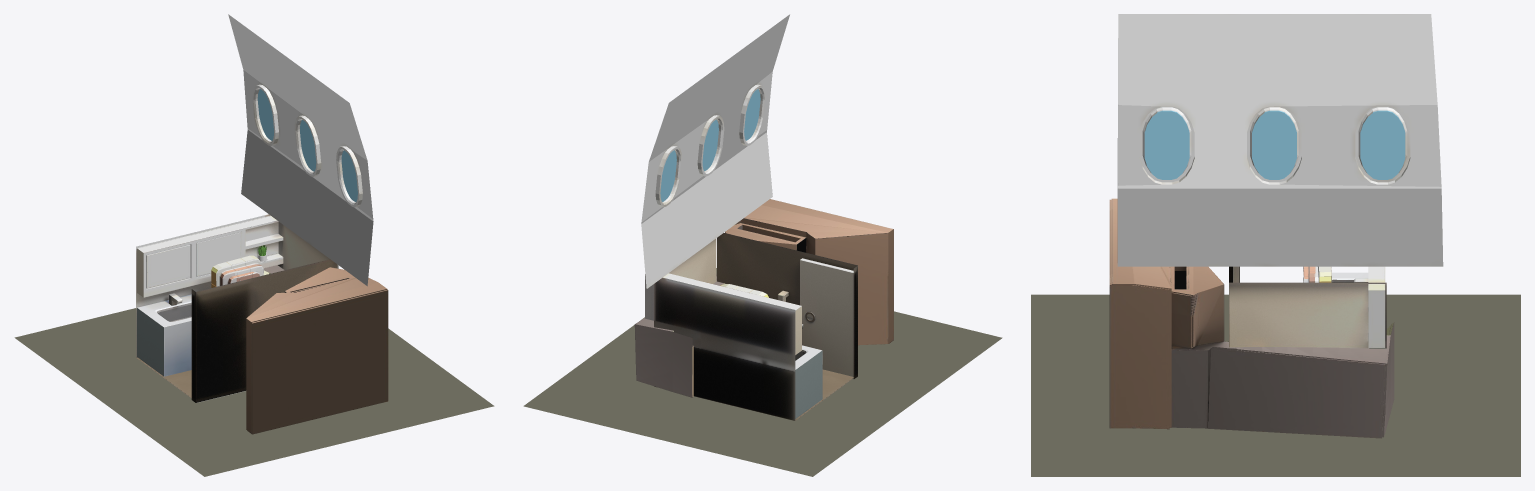
The model's file is equipment-introduction.glb.
3 views of the same model, side by side, from view 1: azimuth 30°, elevation 25°; view 2: azimuth 150°, elevation 25°; view 3: azimuth 270°, elevation 25° (orthographic). The views are drawn at different scales.
Parts seen in each view (by area): view 1: A350_Nose_plane, A350_Nose_wall, LAV_wall.005, FC_01A_wall, FC_01A_wall2, LAV_wall.004, window, Chair_FC_chair_back; view 2: A350_Nose_plane, LAV_wall.005, A350_Nose_wall, FC_01A_wall2, LAV_wall.004, window; view 3: A350_Nose_wall, A350_Nose_plane, FC_01A_wall, LAV_wall.005, window, FC_01A_wall2.
Boxes of the visible parts, bbox=[...] form: A350_Nose_plane: bbox=[14, 308, 494, 476]; A350_Nose_wall: bbox=[228, 14, 373, 286]; LAV_wall.005: bbox=[136, 214, 338, 402]; FC_01A_wall: bbox=[247, 273, 388, 434]; FC_01A_wall2: bbox=[246, 265, 387, 433]; LAV_wall.004: bbox=[137, 293, 191, 376]; window: bbox=[257, 89, 357, 201]; Chair_FC_chair_back: bbox=[211, 255, 260, 287]; A350_Nose_plane: bbox=[523, 268, 1002, 476]; LAV_wall.005: bbox=[645, 233, 857, 420]; A350_Nose_wall: bbox=[641, 14, 789, 288]; FC_01A_wall2: bbox=[634, 199, 893, 397]; LAV_wall.004: bbox=[795, 345, 822, 418]; window: bbox=[660, 89, 760, 201]; A350_Nose_wall: bbox=[1117, 14, 1443, 266]; A350_Nose_plane: bbox=[1031, 294, 1520, 476]; FC_01A_wall: bbox=[1109, 199, 1392, 438]; LAV_wall.005: bbox=[1229, 266, 1386, 348]; window: bbox=[1144, 110, 1405, 179]; FC_01A_wall2: bbox=[1111, 198, 1394, 437].
Size of the model in its own units: 1.92 by 1.94 by 2.18.
24 materials, 19 textured.
